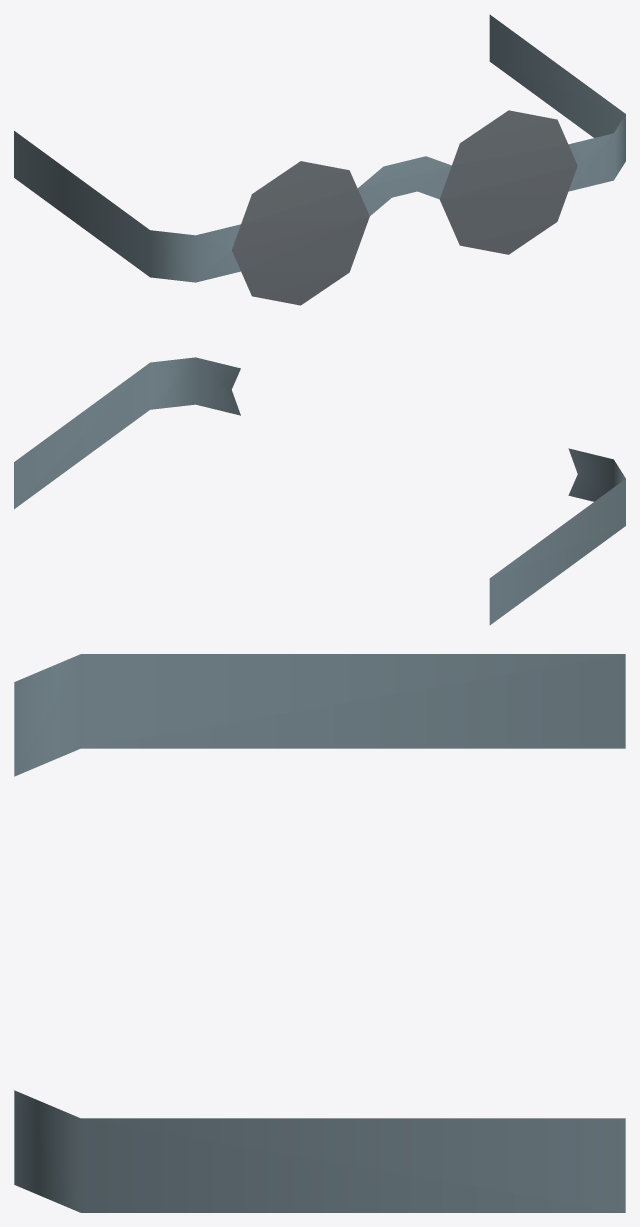
Rendered from glasses.high.7efd38b7.glb.
3 renders of one model, top to bottom at view 1: azimuth 30°, elevation 25°; view 2: azimuth 150°, elevation 25°; view 3: azimuth 270°, elevation 25°, orthographic. The views are drawn at different scales.
Visible parts, largest first — view 1: glasses; view 2: glasses; view 3: glasses.
Boxes of the visible parts, box(x1,y1,x2,y2) form: glasses: box(14, 14, 625, 305); glasses: box(14, 357, 625, 625); glasses: box(14, 654, 625, 1212).
Bounding box in the file's own units: 0.726 × 0.2108 × 0.4039.
